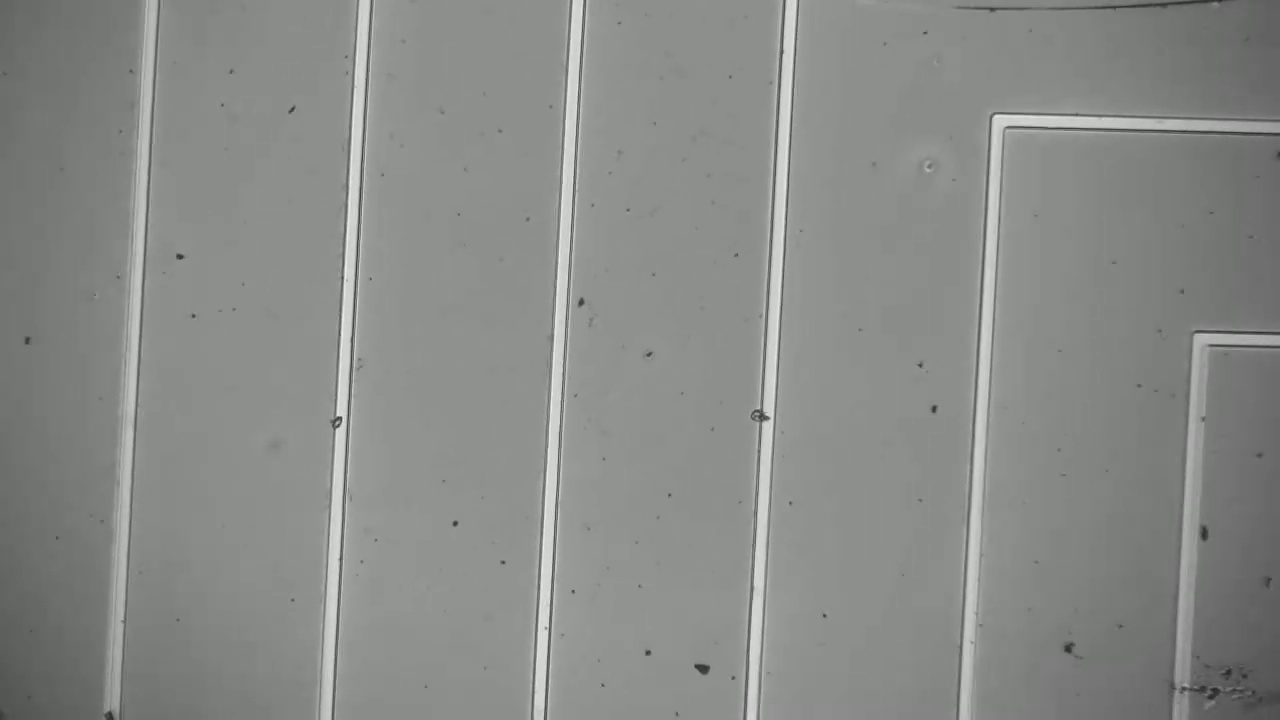stains_enbedded: (326, 409, 349, 435)
